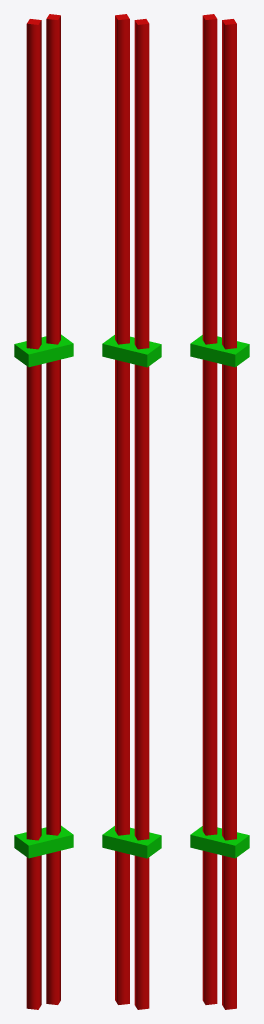
File: FuseWire_Straight.FBX
3 renders of one model, left to right at view 1: azimuth 30°, elevation 25°; view 2: azimuth 150°, elevation 25°; view 3: azimuth 330°, elevation 25°, orthographic.
Parts seen in each view (by area): view 1: FuseWire_Straight; view 2: FuseWire_Straight; view 3: FuseWire_Straight.
Part boxes in pixels (x1=…): FuseWire_Straight: x1=14, y1=14, x2=73, y2=1009; FuseWire_Straight: x1=102, y1=14, x2=161, y2=1009; FuseWire_Straight: x1=190, y1=14, x2=249, y2=1009.
Bounding box in the file's own units: 0.1223 × 2.56 × 0.0674.
